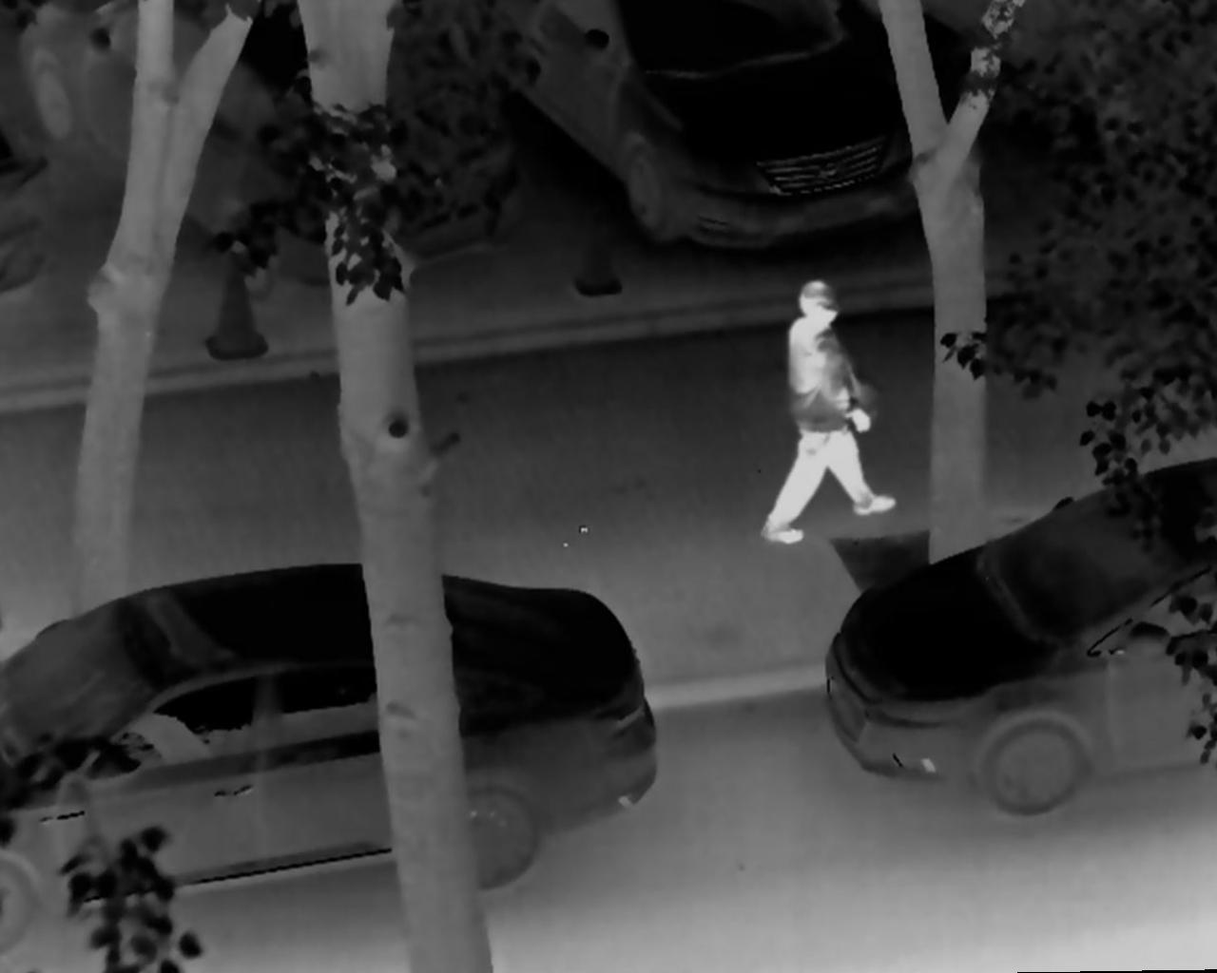person: (756, 280, 895, 547)
